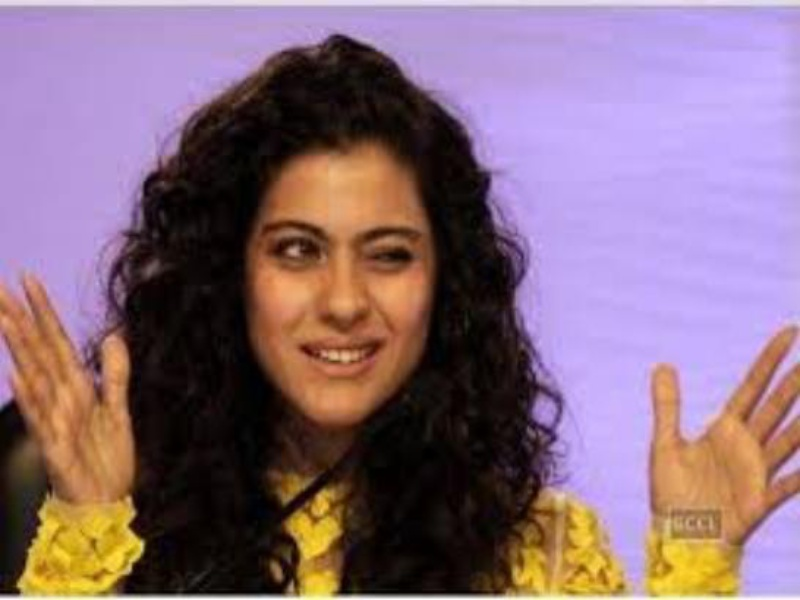TsisyArotava: (221, 95, 496, 450)
